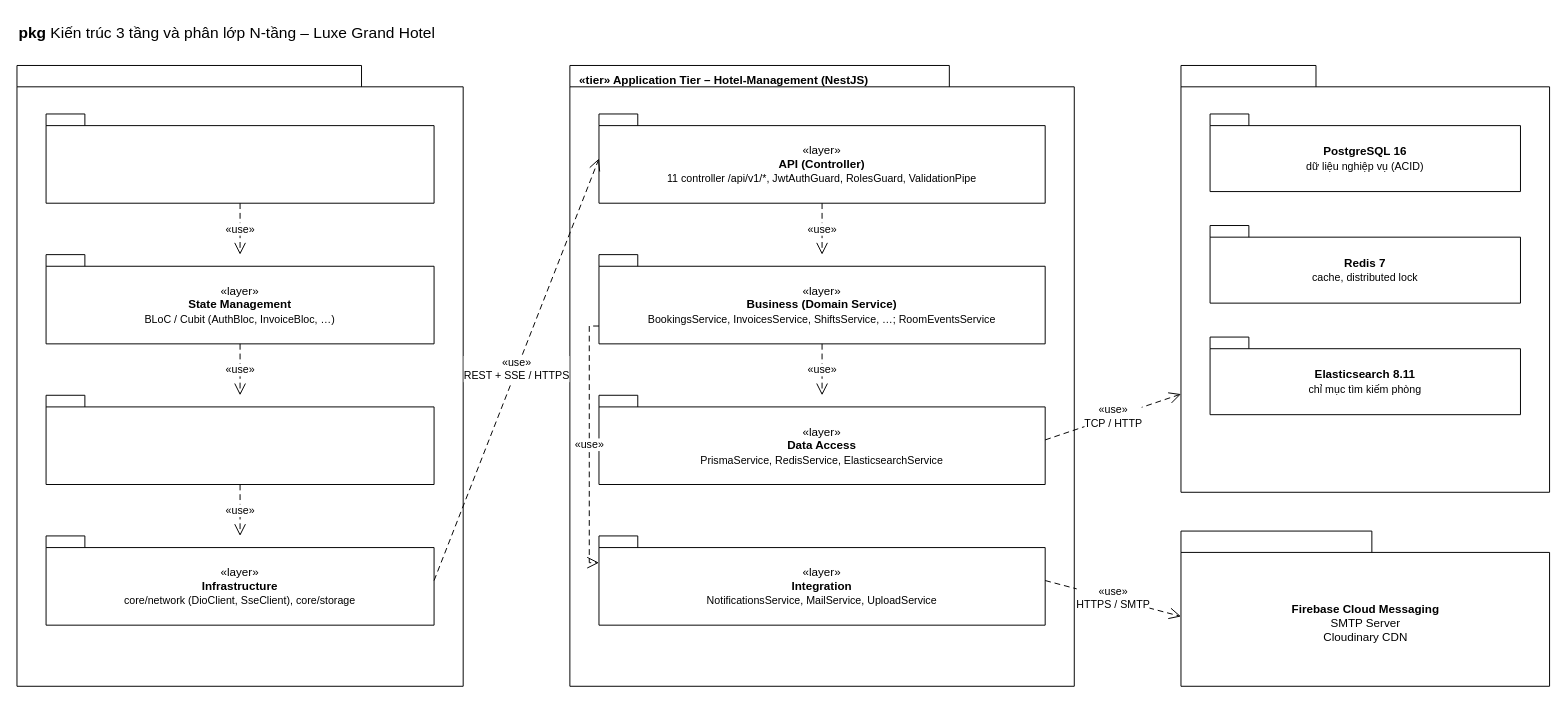
This 1567x703 diagram has some shape labels left out. The box of each missing label's shape, as (x1, y1, x2, y2) in pixels:
«layer» Data Access shared/repositories, shared/models: (45, 394, 434, 485)
«layer» Presentation features/*/screens, shared/widgets: (45, 113, 434, 203)
«tier» Data Tier: (1180, 65, 1550, 492)
«tier» External Services: (1180, 530, 1550, 686)
«tier» Presentation Tier – hotel_app (Flutter): (16, 65, 463, 686)
